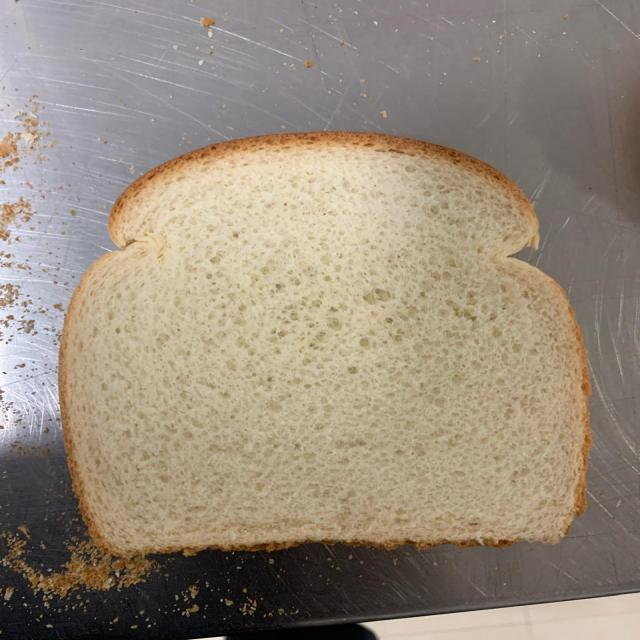sliced_bread: (55, 133, 595, 559)
